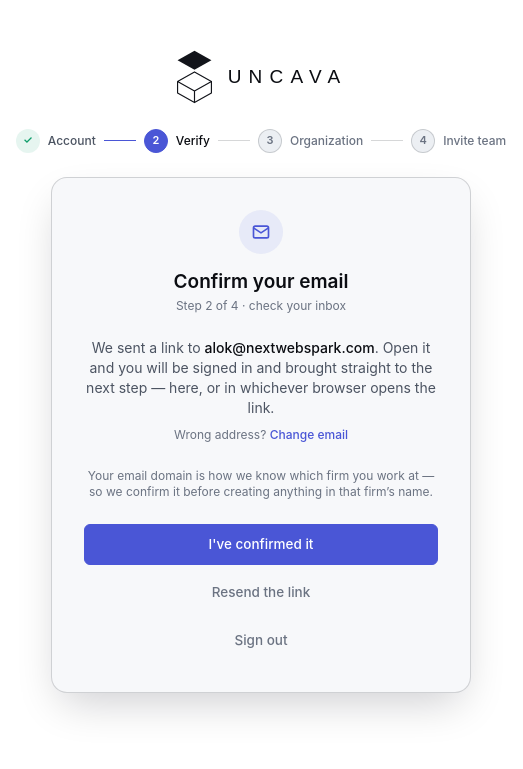
Test case: SignupVerifyStepPage › says where the link went, and holds Resend for a cooldown
The width and height of the screenshot is (523, 769).
Expected: the text "alok@nextwebspark.com" is shown, [204,338,375,356]
Step 1. Click the button "Resend the link" → (261,593), box [84,573,438,613]
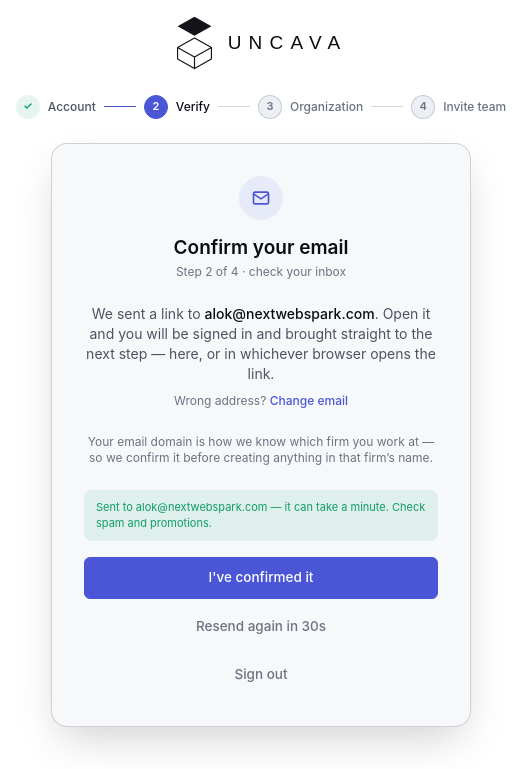
Expected: the text "Sent to alok@nextwebspark.com" is shown, [96,500,425,530]
